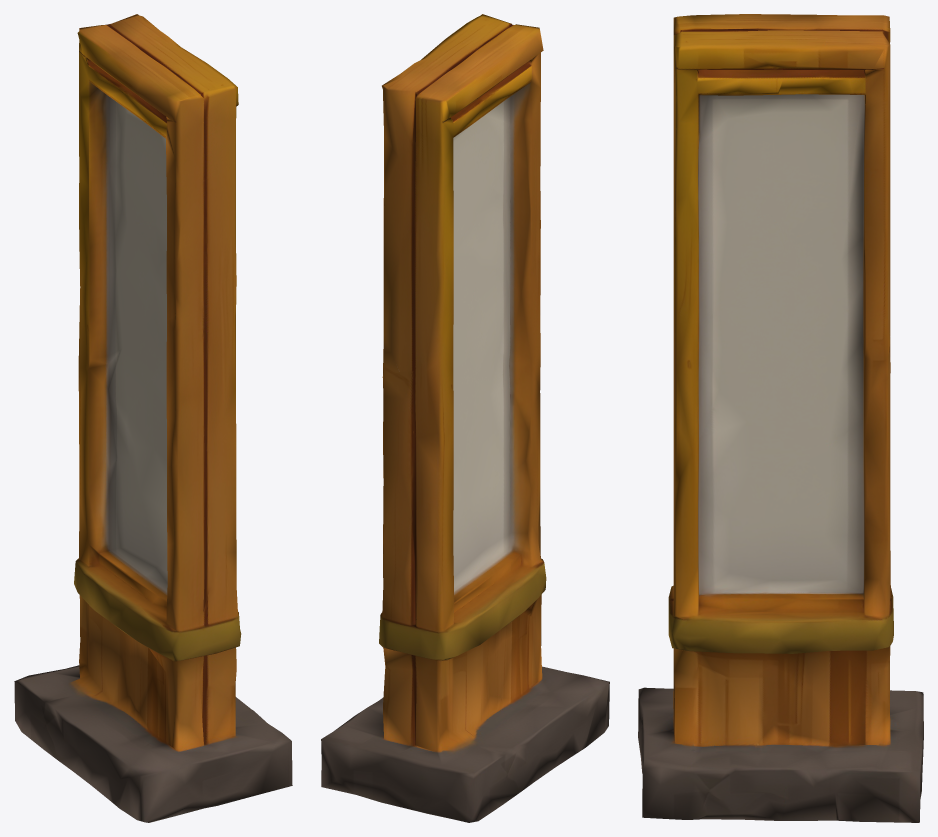
File: welcome.glb
3 views of the same model, side by side, from view 1: azimuth 30°, elevation 25°; view 2: azimuth 150°, elevation 25°; view 3: azimuth 270°, elevation 25° (orthographic). The views are drawn at different scales.
Parts seen in each view (by area): view 1: tripo_node_2af2a081-f786-4227-bf14-4d6560cf09de; view 2: tripo_node_2af2a081-f786-4227-bf14-4d6560cf09de; view 3: tripo_node_2af2a081-f786-4227-bf14-4d6560cf09de.
Part boxes in pixels (left/top/right/bottom): tripo_node_2af2a081-f786-4227-bf14-4d6560cf09de: left=14, top=14, right=292, bottom=822; tripo_node_2af2a081-f786-4227-bf14-4d6560cf09de: left=321, top=14, right=609, bottom=822; tripo_node_2af2a081-f786-4227-bf14-4d6560cf09de: left=638, top=14, right=923, bottom=822.
Size of the model in its own units: 0.236 by 1 by 0.343.
1 material, 1 textured.
